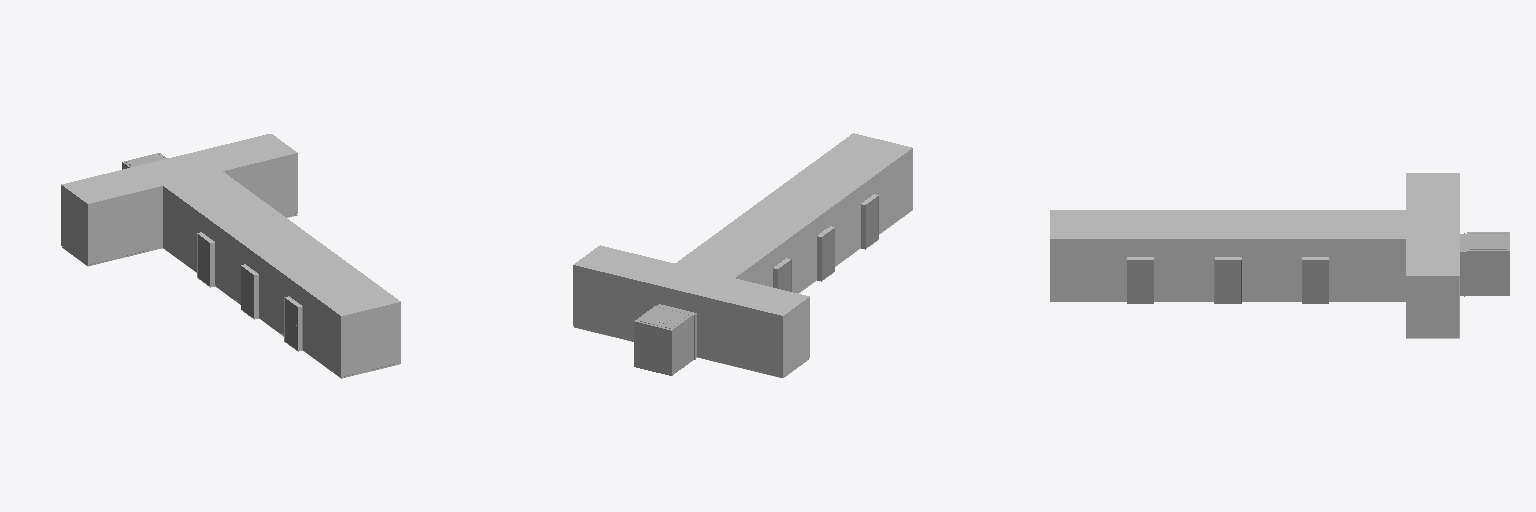
The model's file is corridor_elevator_textured.obj.
3 renders of one model, left to right at view 1: azimuth 30°, elevation 25°; view 2: azimuth 150°, elevation 25°; view 3: azimuth 270°, elevation 25°, orthographic.
Visible parts, largest first — view 1: walls_ceiling, doors_handles; view 2: walls_ceiling, elevator, doors_handles; view 3: walls_ceiling, doors_handles, elevator.
Part boxes in pixels (x1,y1,x2,y2): walls_ceiling: (61, 134, 400, 378); doors_handles: (197, 234, 297, 350); walls_ceiling: (573, 133, 912, 377); elevator: (634, 304, 696, 375); doors_handles: (778, 196, 878, 291); walls_ceiling: (1050, 173, 1459, 337); doors_handles: (1127, 260, 1328, 303); elevator: (1460, 232, 1509, 296).
Bounding box in the file's own units: 17.28 × 4.92 × 32.81.